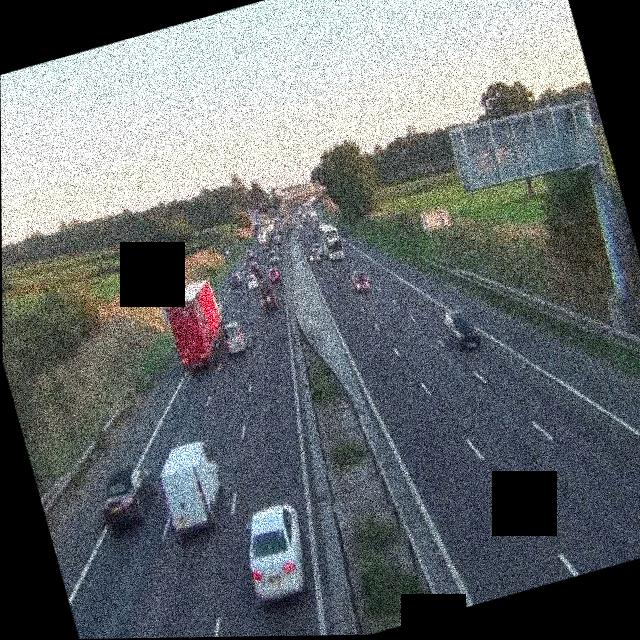bus: (317, 219, 346, 262)
car: (234, 499, 317, 605), (152, 437, 233, 538), (91, 459, 163, 536), (439, 303, 483, 355), (219, 319, 249, 355), (257, 280, 280, 313), (350, 267, 371, 293), (264, 265, 281, 284), (244, 271, 261, 290), (306, 246, 322, 265), (246, 259, 260, 277), (229, 271, 242, 288), (267, 250, 280, 266), (293, 218, 303, 230)
truck: (159, 277, 232, 374), (250, 218, 266, 243)
